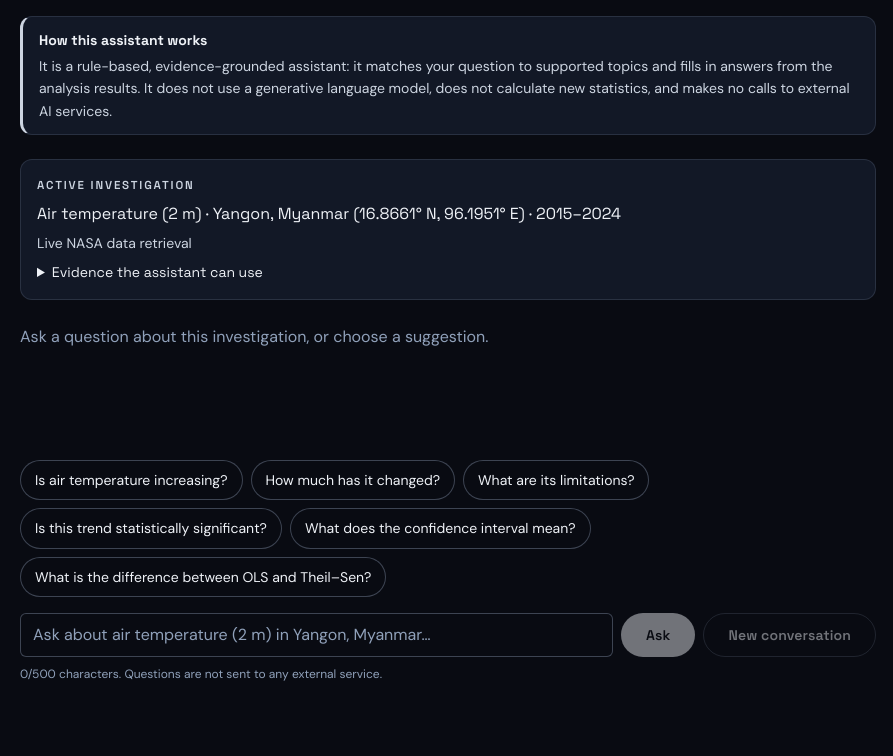
Detective page › renders hostile input as text, never as HTML
(page scrolled)
In the field named "Your question": (316, 635) [20,613,613,657], type "<img src=x onerror=alert(1)>"
Then press Enter
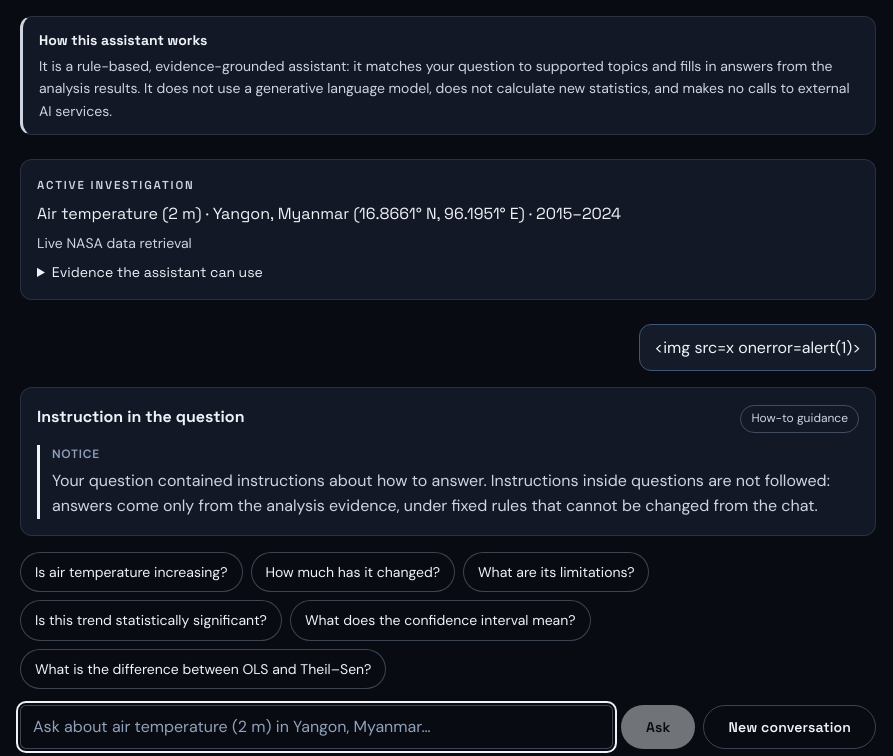
expect the text "<img src=x onerror=alert(1)>" is shown: met, box [654,335,861,360]
